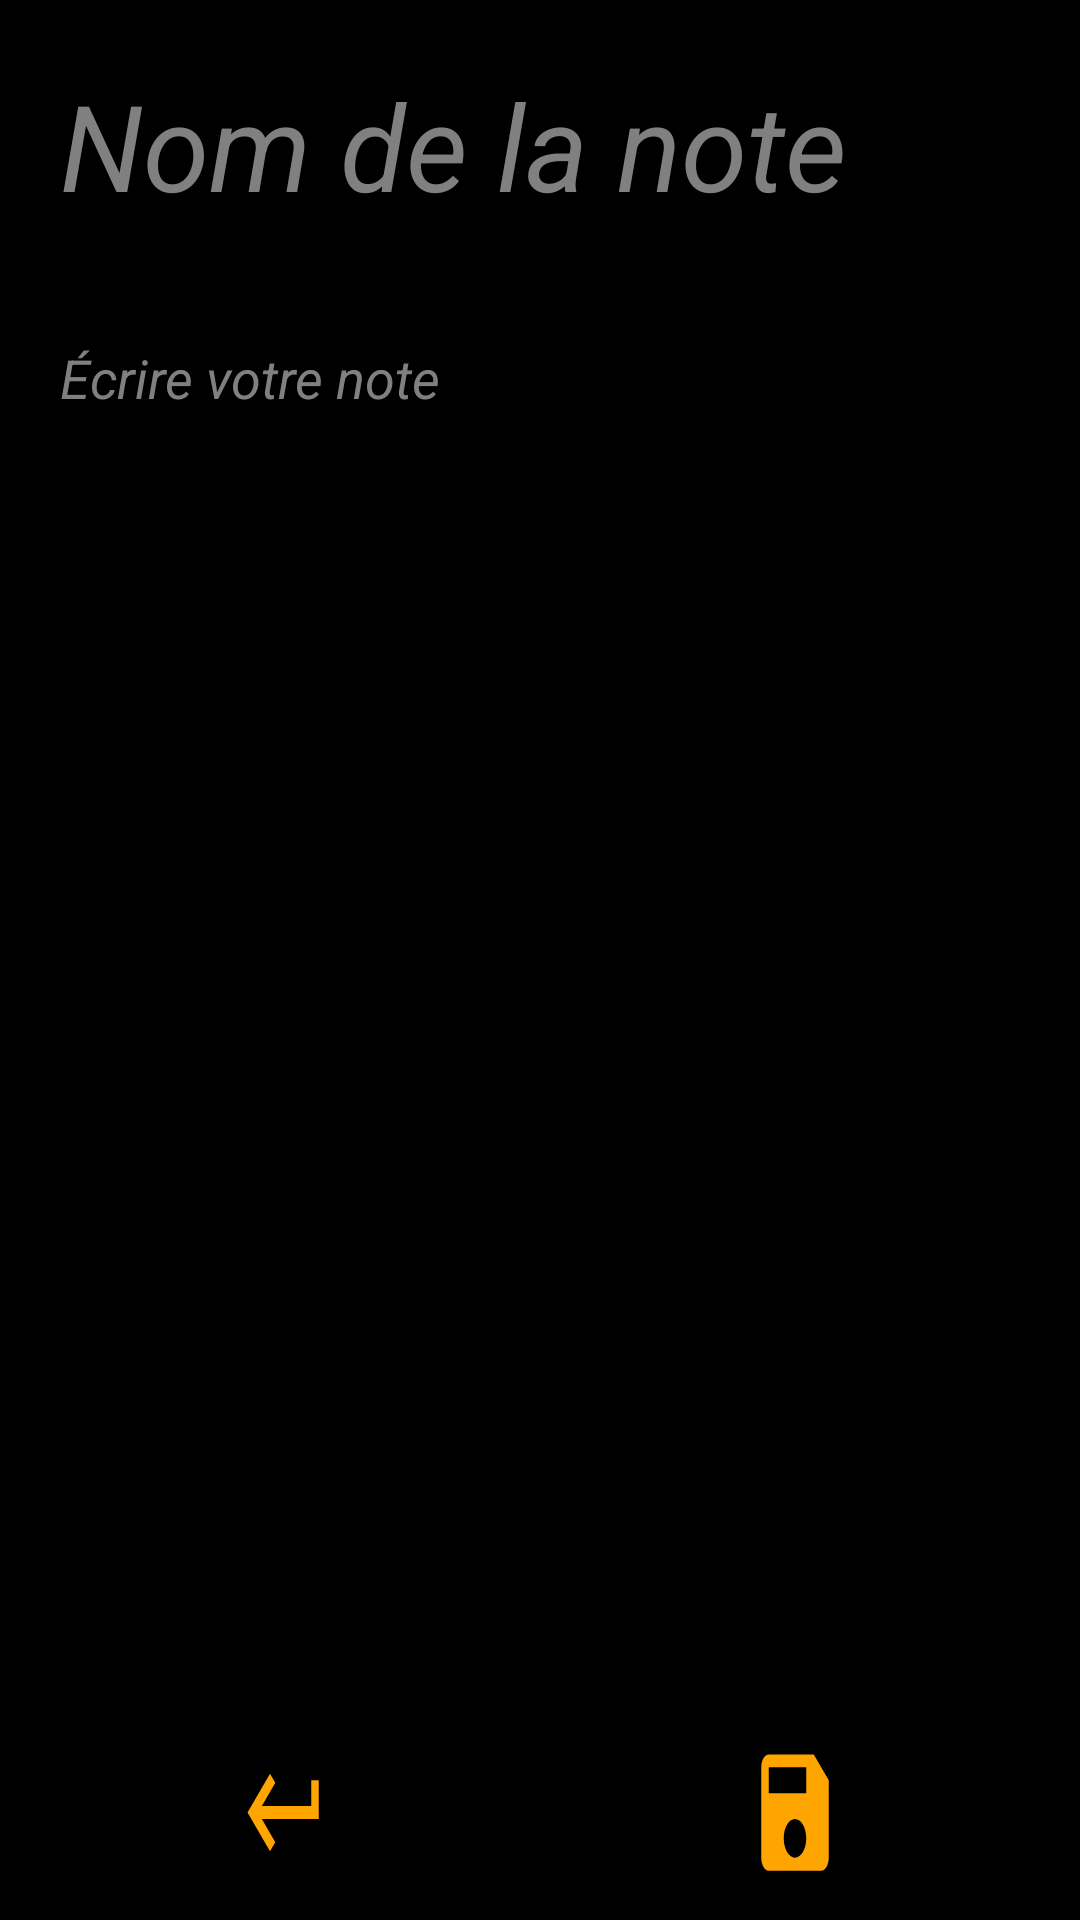

Named icons in this screenshot (1080px x 1920px) and their centers, (x,y):
keyboard return: (283,1812)
save: (795,1812)
